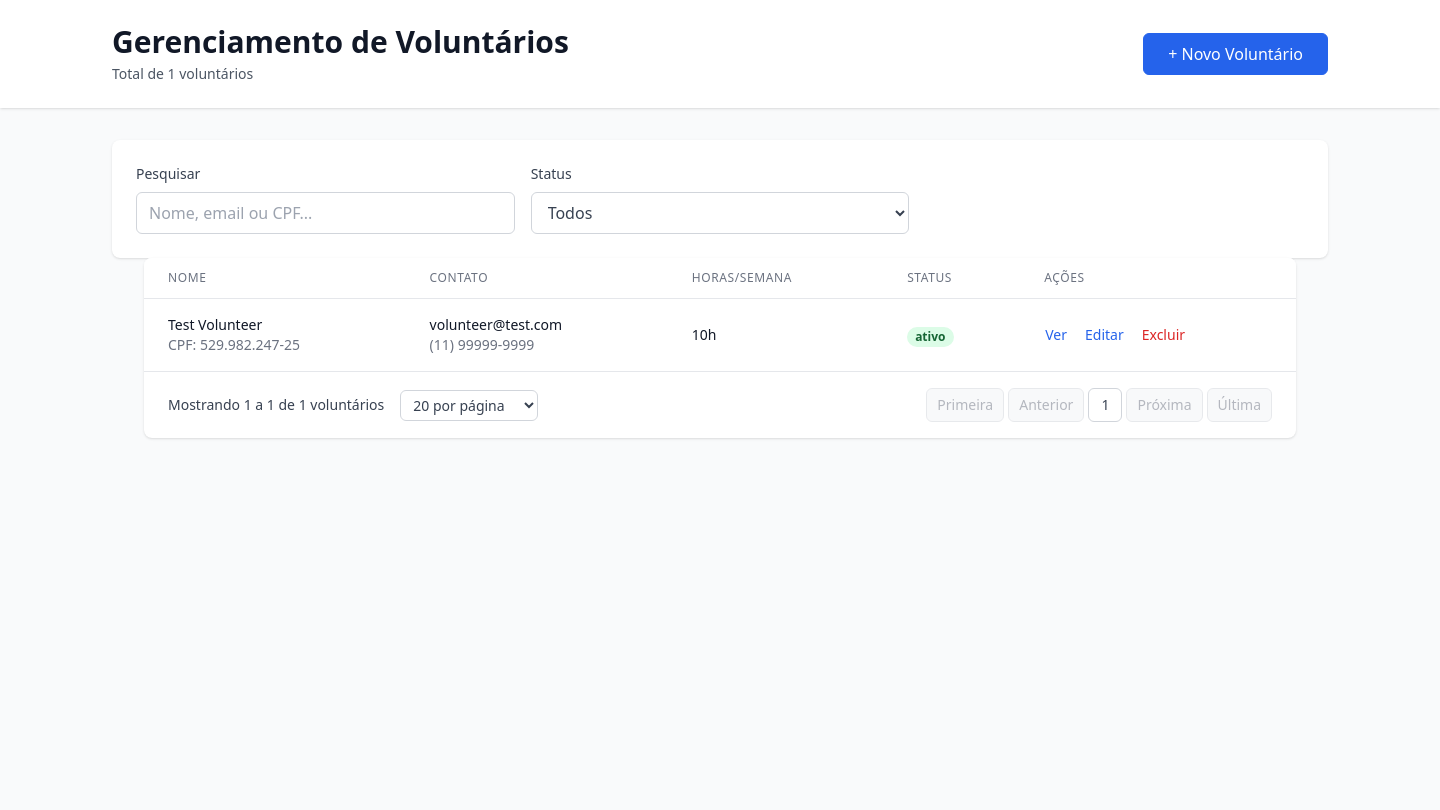
Test case: ONGVolunteersPage › View Details › should display skills and interests in details modal
Click the button "Ver": (1056, 335) [1044,324,1068,346]
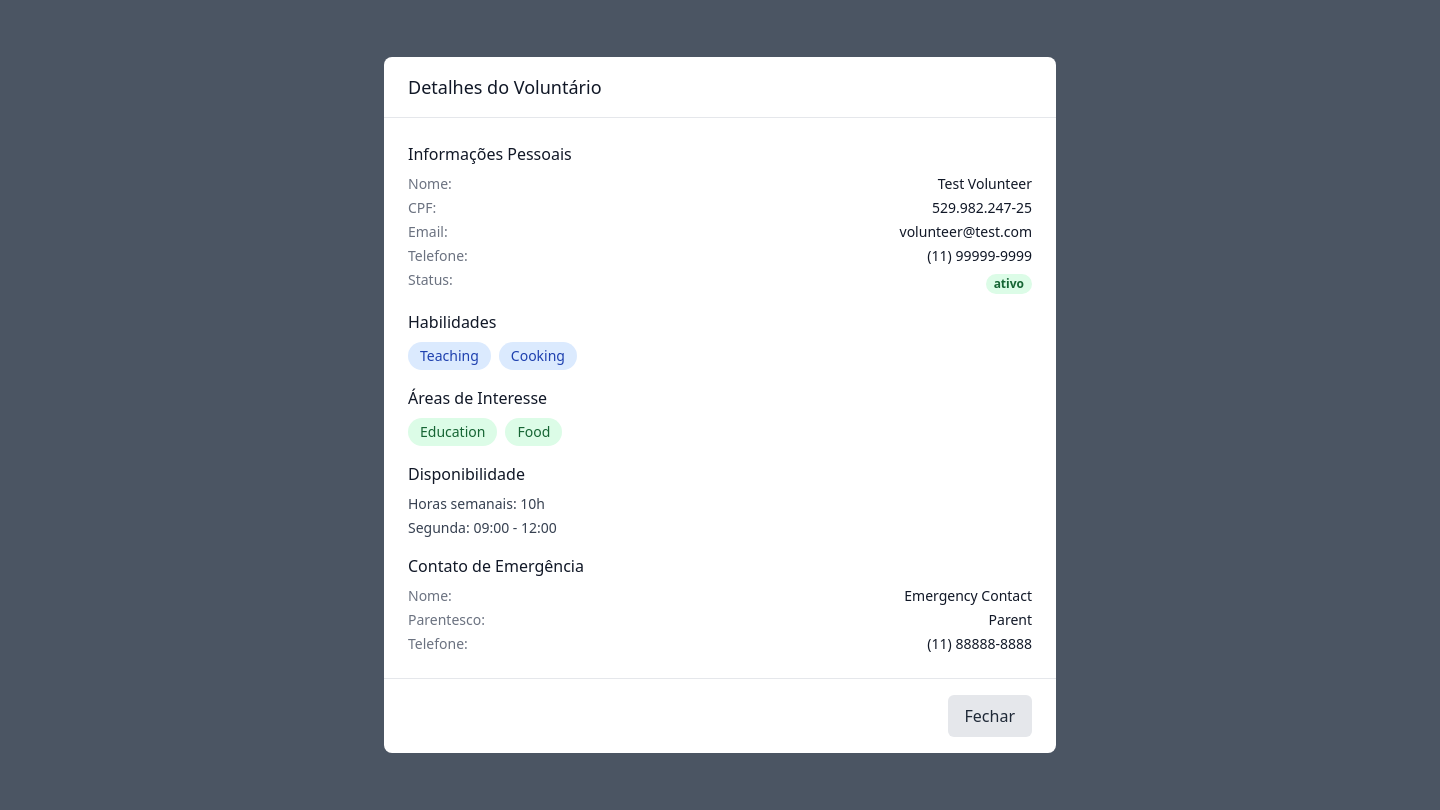
Check: the text "Teaching" is shown, box [408,342,491,370]
Check: the text "Cooking" is shown, box [499,342,577,370]
Check: the text "Education" is shown, box [408,418,497,446]
